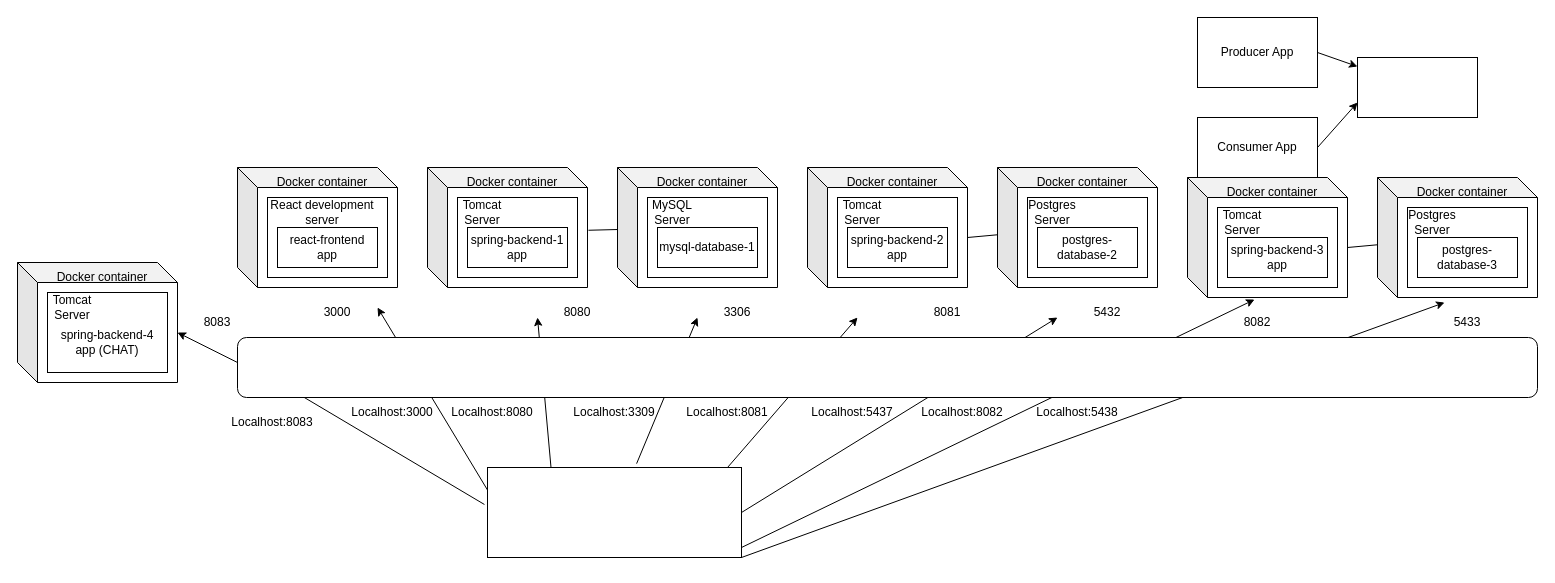
Image size: 1555x583. Some labels were removed from this diagram. The centre of each missing label's shape, as x and y in pixels:
"Browser" belongs at pixel 614 512.
"DOCKER" belongs at pixel 887 367.
"RabbitMQ Server (sparrow)" belongs at pixel 1417 87.
